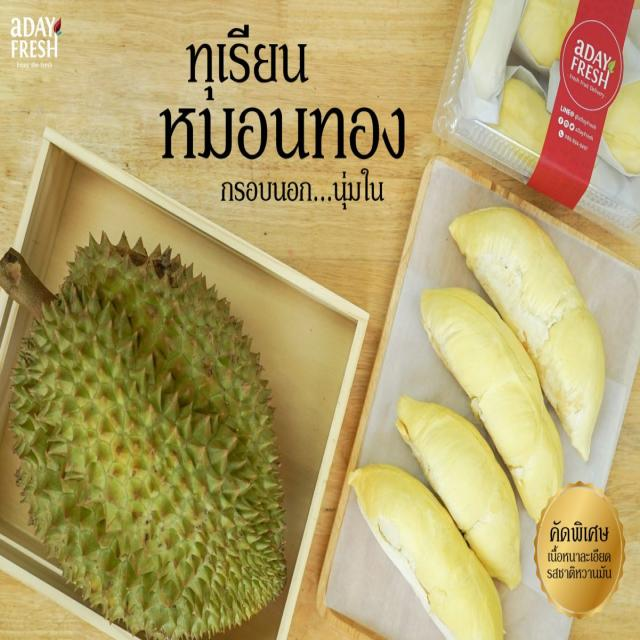mature: (10, 235, 285, 637)
